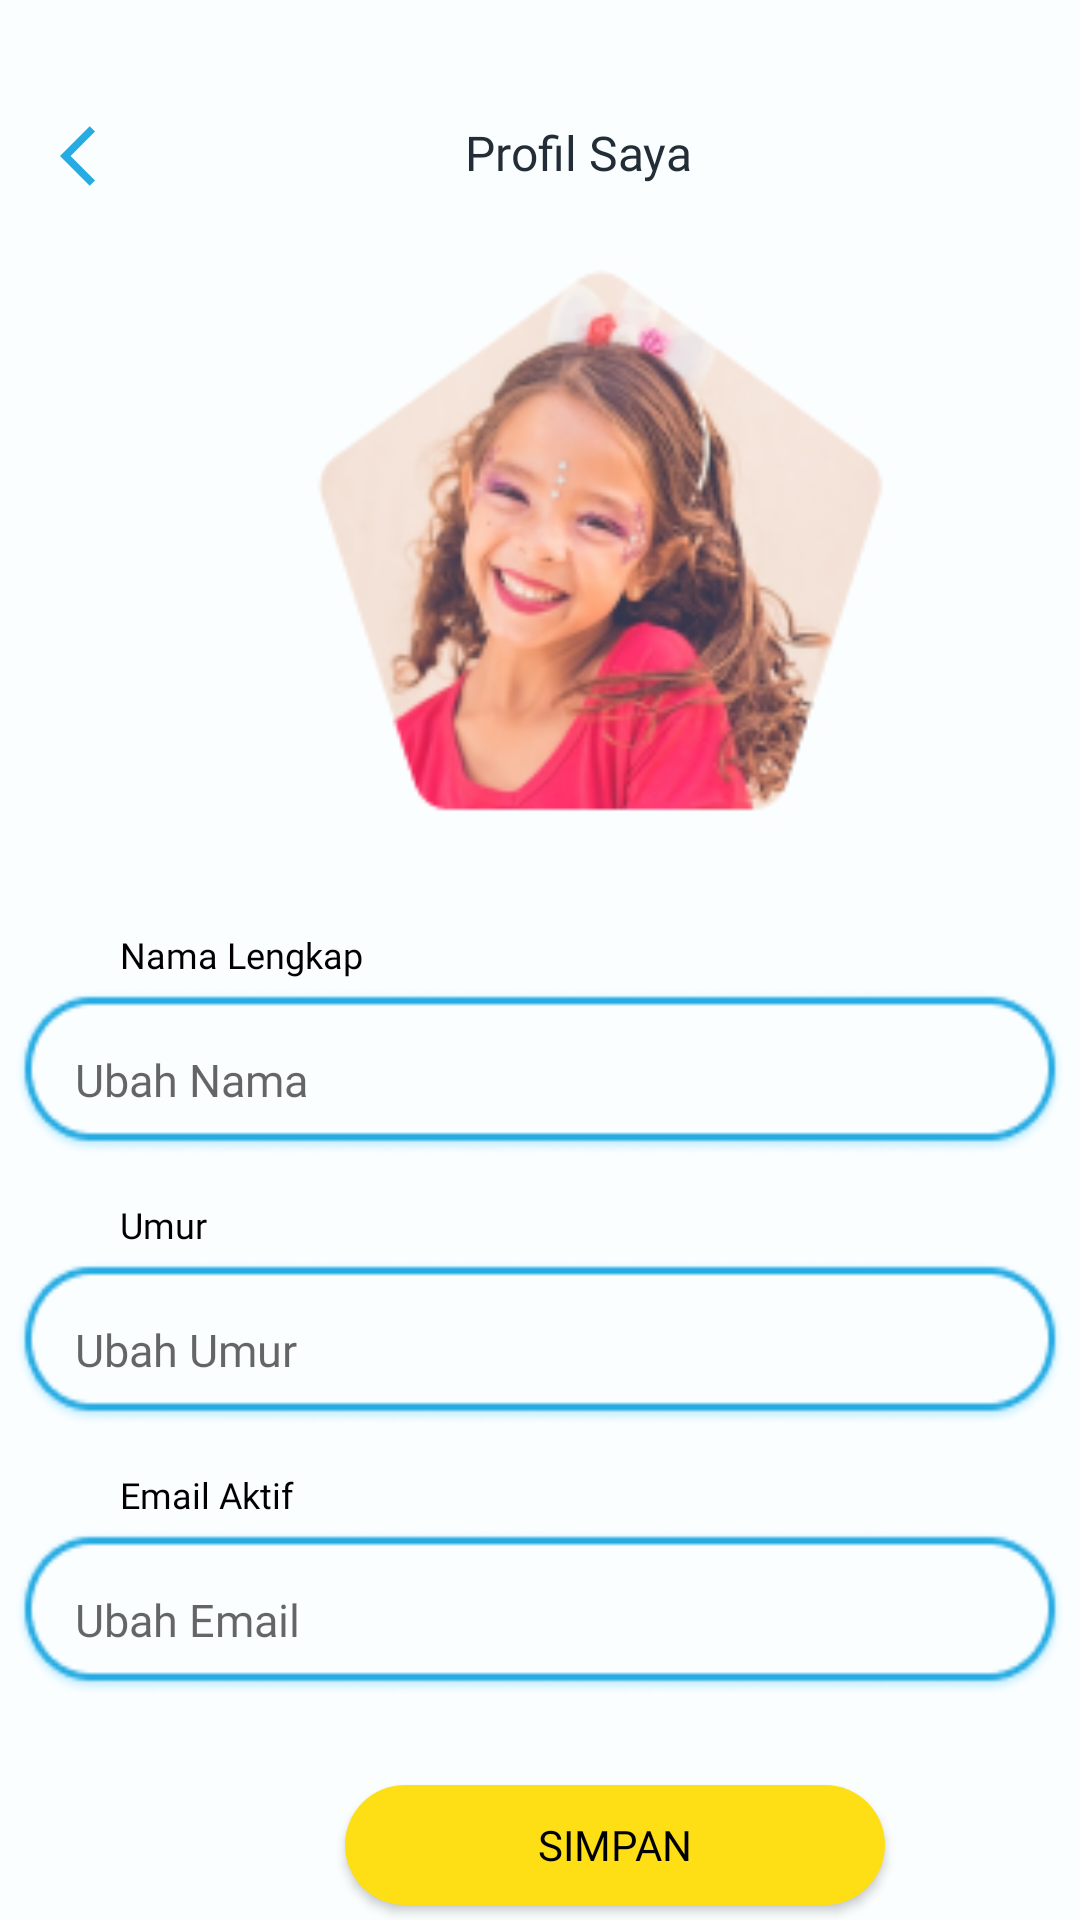

Screen size 1080w x 1920h. Icon name, then its box in pixels as [x1,y1,x2,y2]:
arrow back: [60,126,95,186]
